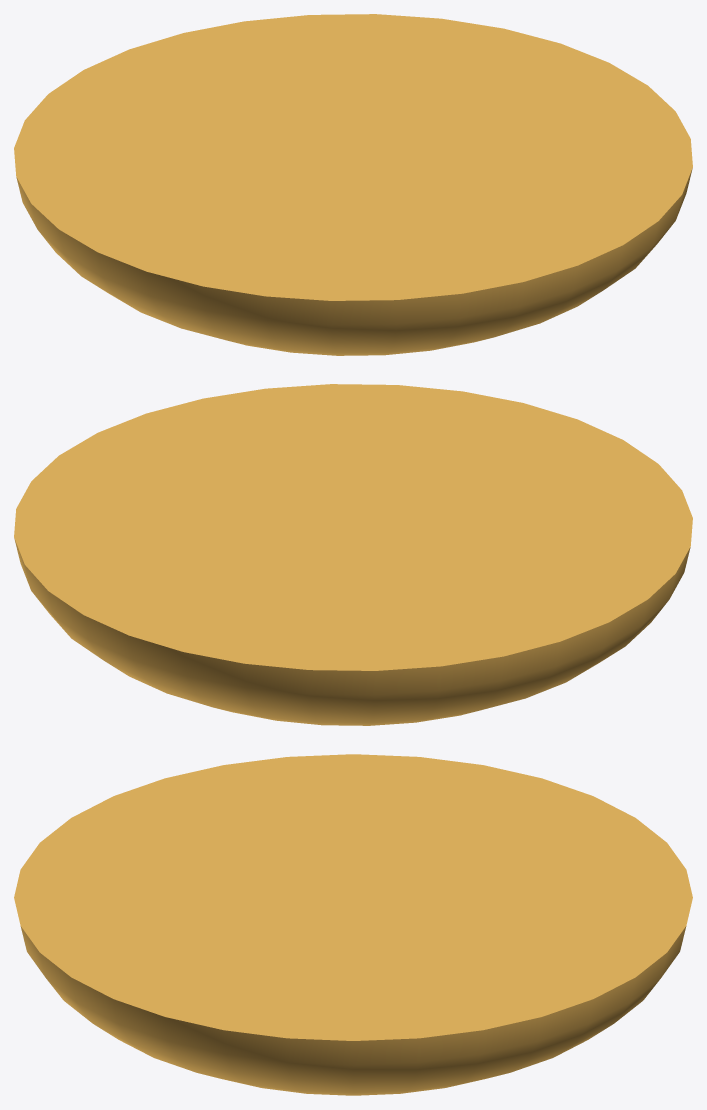
Rendered from burger_bread_down.fbx.
3 renders of one model, top to bottom at view 1: azimuth 30°, elevation 25°; view 2: azimuth 150°, elevation 25°; view 3: azimuth 270°, elevation 25°, orthographic.
Visible parts, largest first — view 1: #burger_bread.001; view 2: #burger_bread.001; view 3: #burger_bread.001.
Part boxes in pixels (x1=…): #burger_bread.001: x1=14, y1=14, x2=692, y2=355; #burger_bread.001: x1=14, y1=384, x2=692, y2=725; #burger_bread.001: x1=14, y1=754, x2=692, y2=1095.
Bounding box in the file's own units: 200 × 44.45 × 200.
